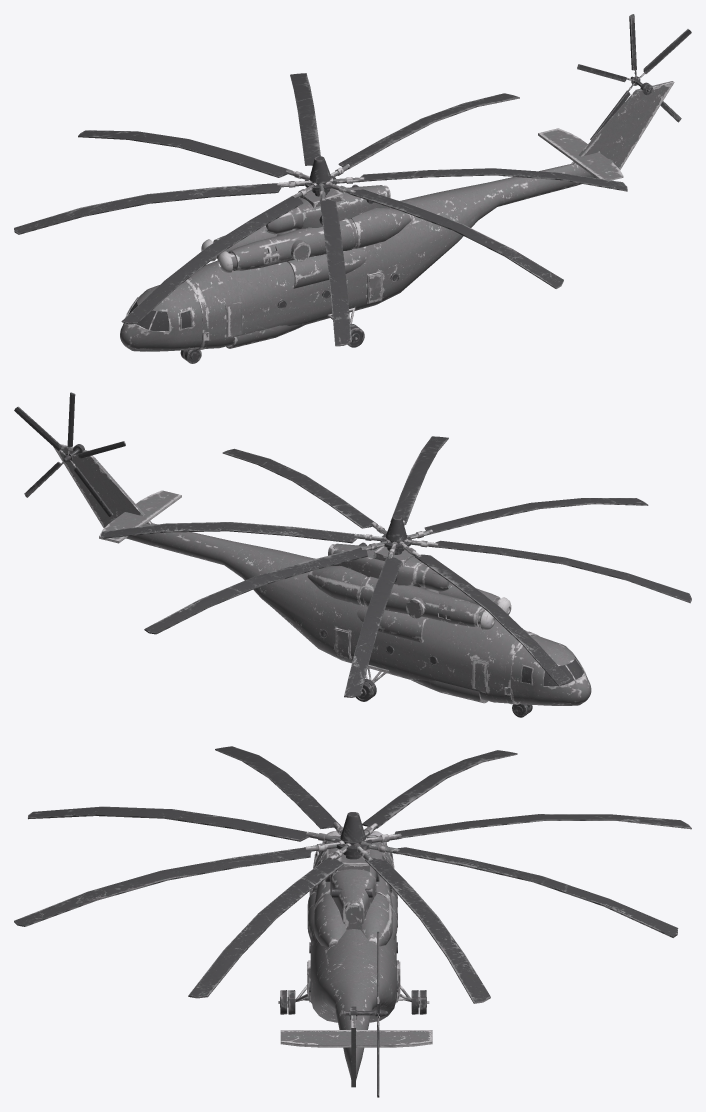
3 views of the same model, one above another, from view 1: azimuth 30°, elevation 25°; view 2: azimuth 150°, elevation 25°; view 3: azimuth 270°, elevation 25° (orthographic). The views are drawn at different scales.
Parts seen in each view (by area): view 1: Cylinder.004; view 2: Cylinder.004; view 3: Cylinder.004.
Boxes of the visible parts, x1,y1,x2,y2 form: Cylinder.004: (14,14,691,363); Cylinder.004: (14,392,691,717); Cylinder.004: (14,746,691,1097).
Size of the model in its own units: 12.37 by 4.28 by 9.8.
Materials: 1 (1 with a texture image).
